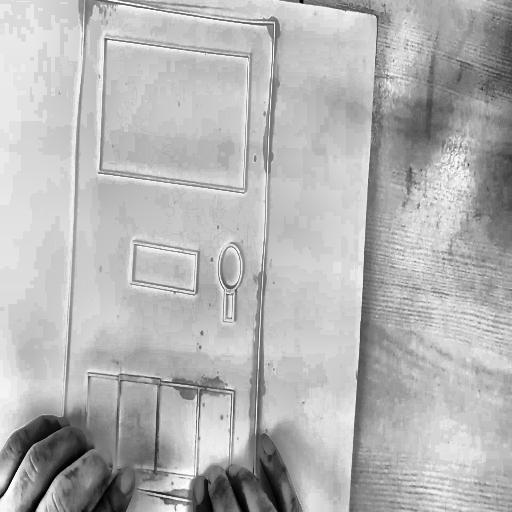door: (52, 0, 288, 512)
top_right: (375, 13, 380, 22)
